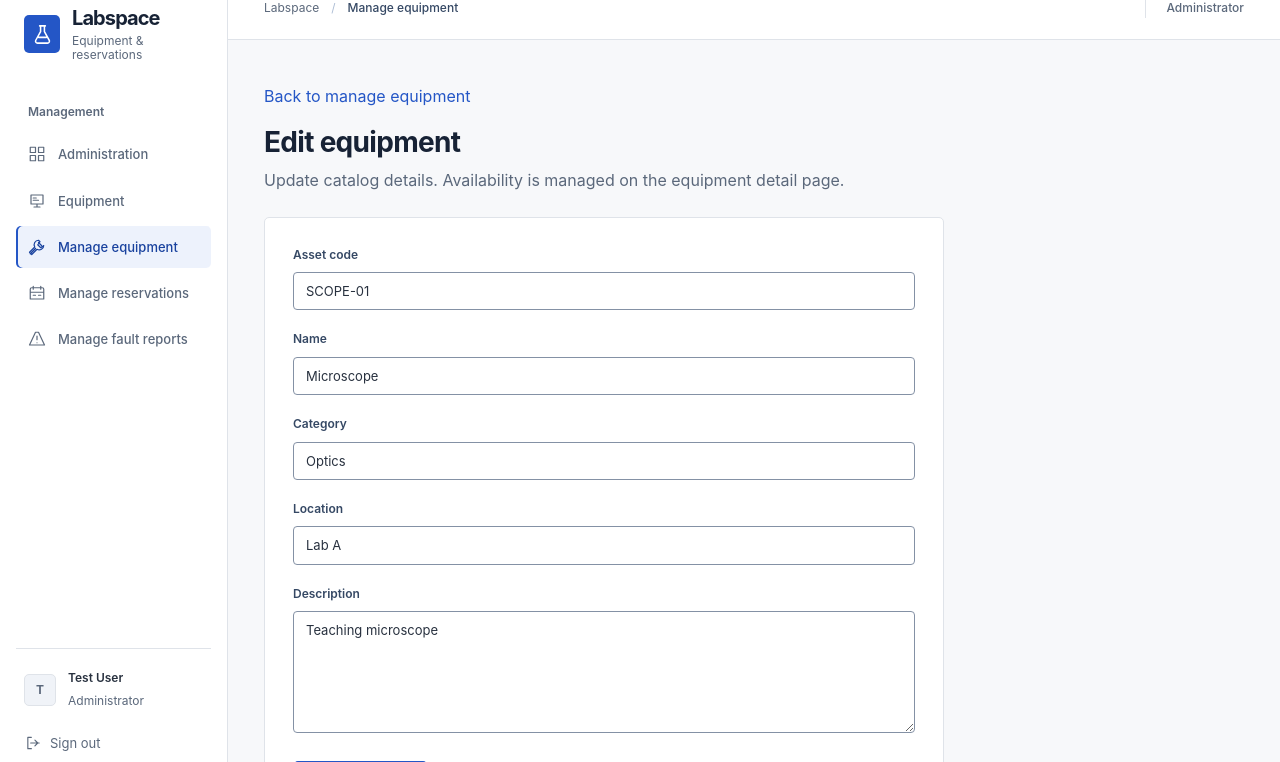
Test case: editing preloads metadata, preserves field values, and refetches after save
Expected: the heading "Edit equipment" is shown, x1=264 y1=125 x2=460 y2=159
Expected: the field labelled "Asset code" holds "SCOPE-01", x1=293 y1=272 x2=915 y2=310
Replace the text in the field labelled "Name" with "Updated microscope" at (604, 376), box x1=293 y1=357 x2=915 y2=395
(page scrolled)
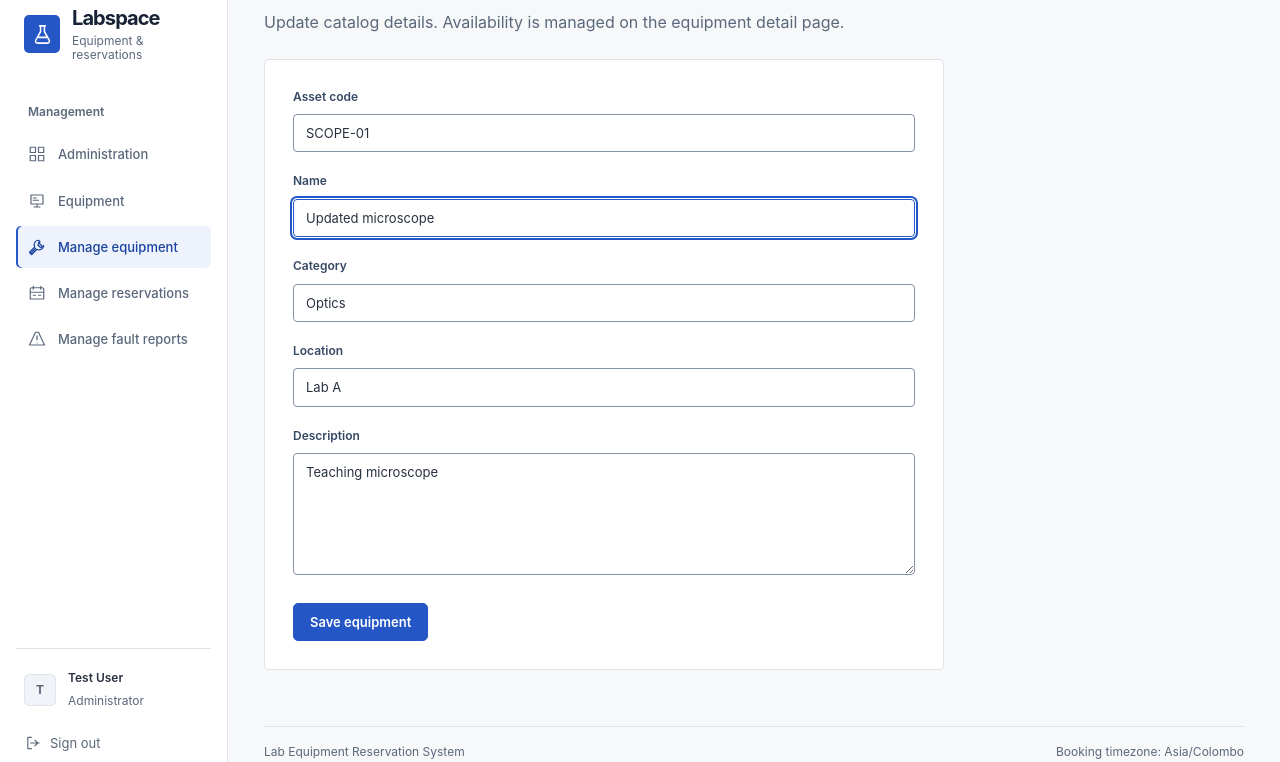
Click the button "Save equipment" at (361, 622), box x1=293 y1=603 x2=428 y2=641
(page scrolled)
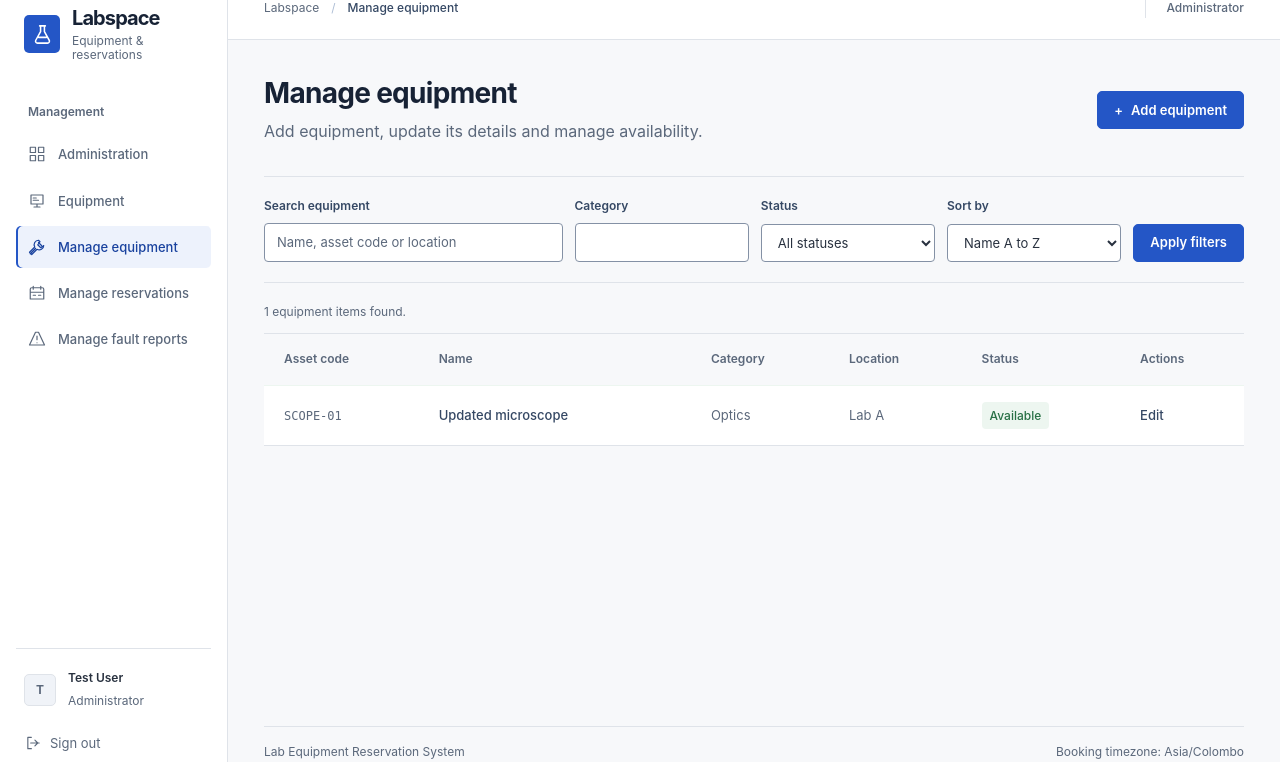
Expected: the link "Updated microscope" is shown, x1=439 y1=405 x2=584 y2=426
